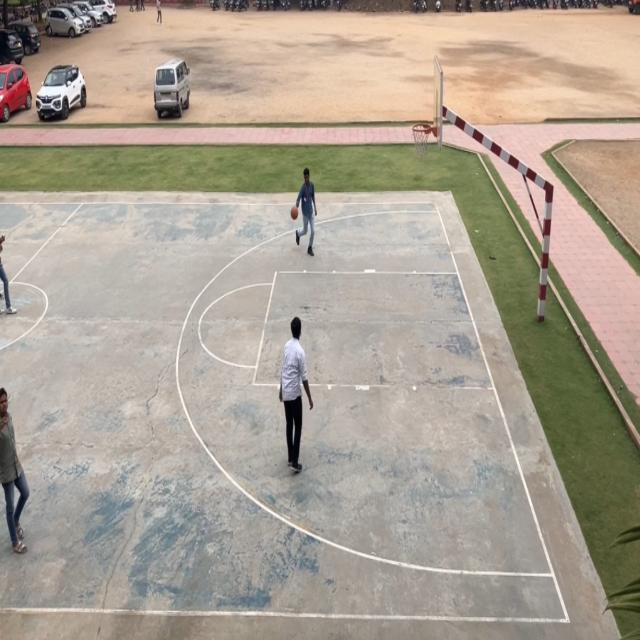basketball: (290, 202, 299, 223)
hoop: (412, 122, 430, 159)
